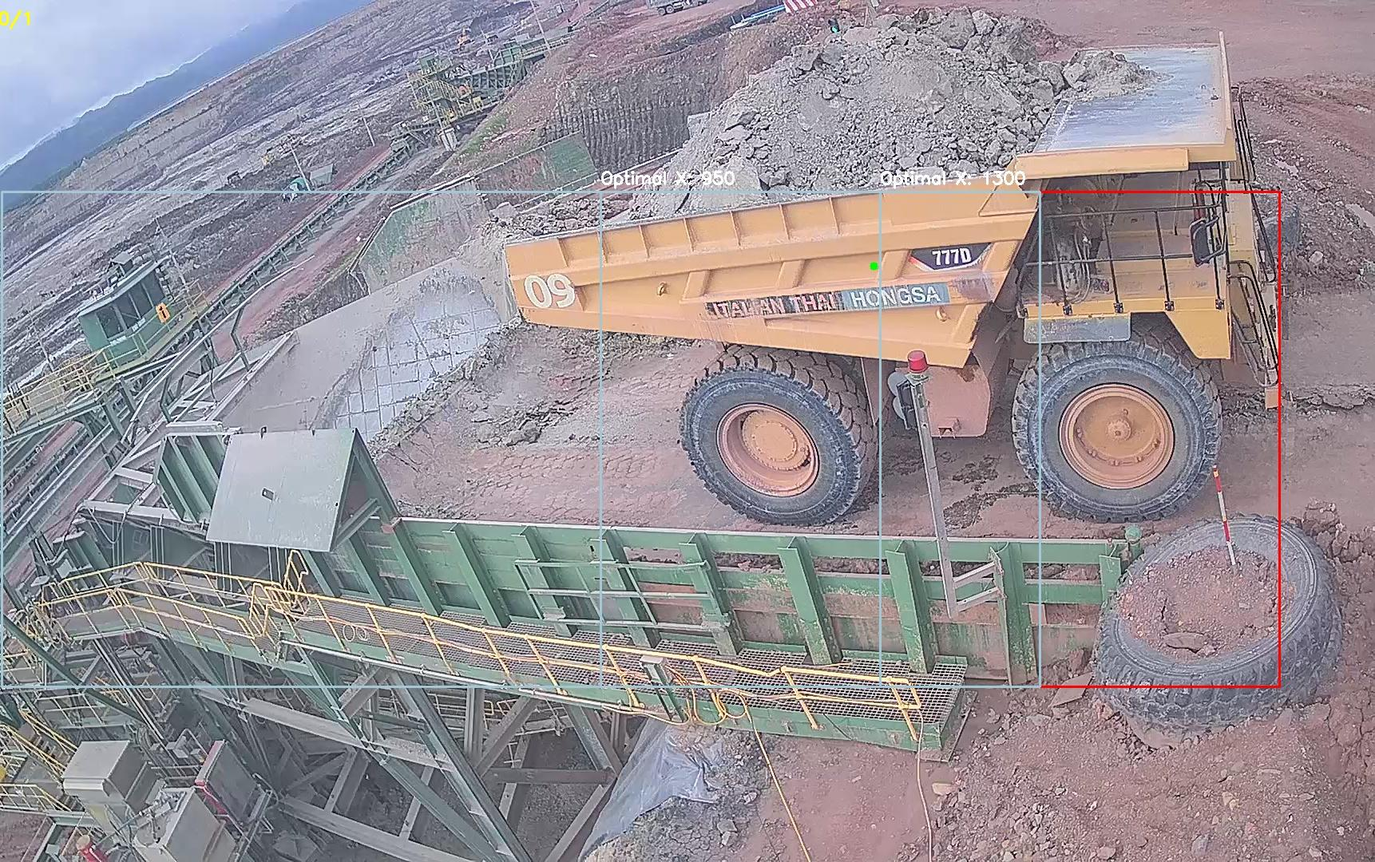company: (684, 278, 963, 324)
full_load: (684, 21, 1021, 205)
mining_truck: (501, 8, 1299, 522)
tail_number: (514, 261, 586, 319)
truck_size: (905, 239, 1002, 271)
